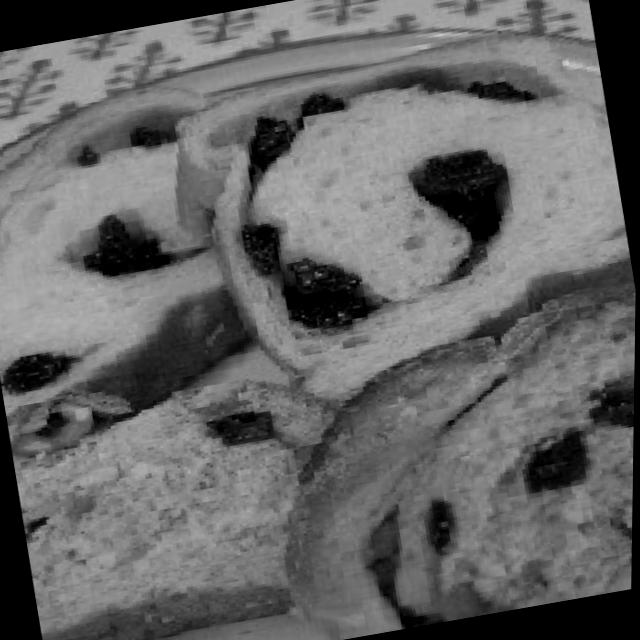面包点心: (0, 12, 640, 640)
